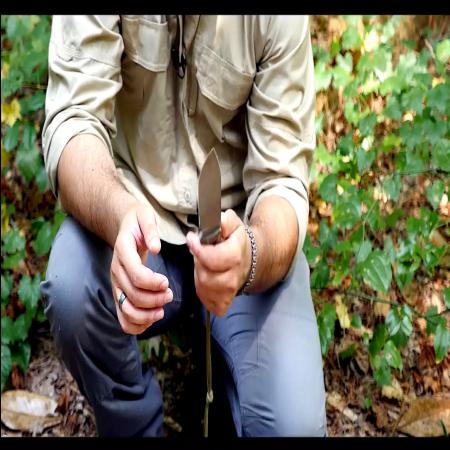long weapon: (184, 140, 233, 280)
